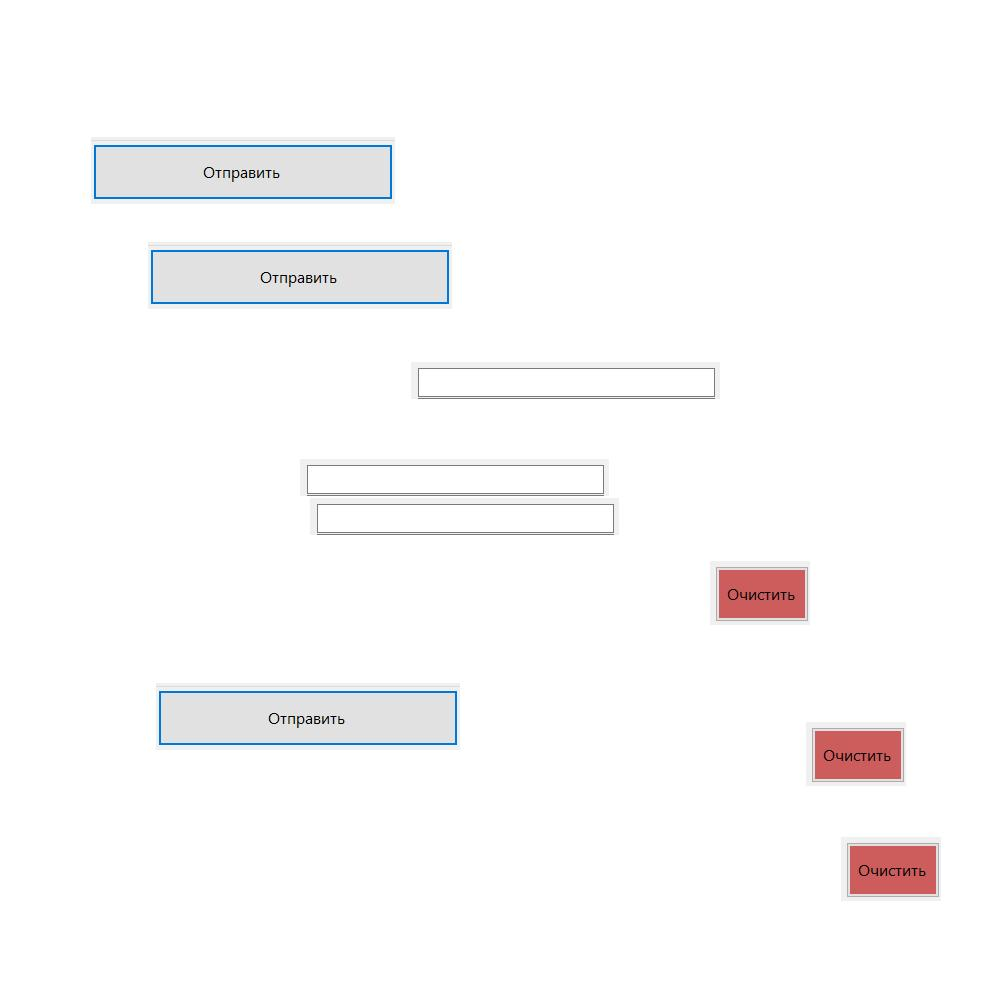Button: (156, 683, 460, 750), (91, 137, 395, 204), (148, 242, 452, 309), (806, 722, 906, 786), (841, 837, 941, 901), (710, 561, 810, 625)
EditText-: (310, 498, 619, 535), (300, 459, 609, 496), (411, 362, 720, 399)
